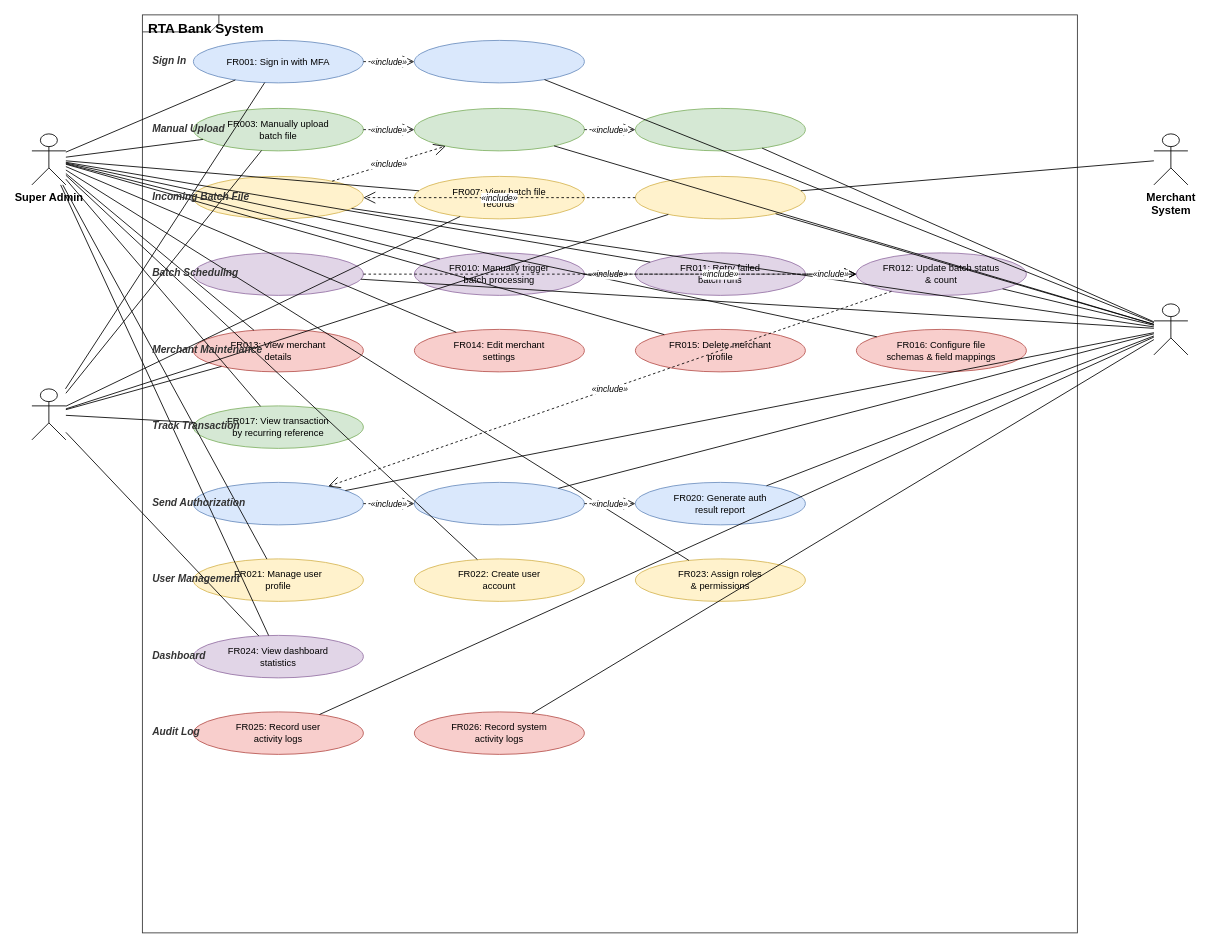
Some shapes in this 1218 by 948 pixel diagram are drawn without their labels. Here are the shapes that lost their labels. From the top down, the box of each, then its label:
(414, 40, 584, 83): FR002: Detect account status
(414, 108, 584, 151): FR004: Auto-validate against file profile
(635, 108, 805, 151): FR005: Auto-update validation status
(193, 176, 363, 219): FR006: Detect & reject invalid files
(635, 176, 805, 219): FR008: Auto-decrypt encrypted file
(193, 252, 363, 295): FR009: Auto-batch at 5-min intervals
(1153, 303, 1188, 355): System (Automated)
(31, 388, 66, 440): Admin
(193, 482, 363, 525): FR018: Encrypt & send batch to auth service
(414, 482, 584, 525): FR019: Update status after auth result
